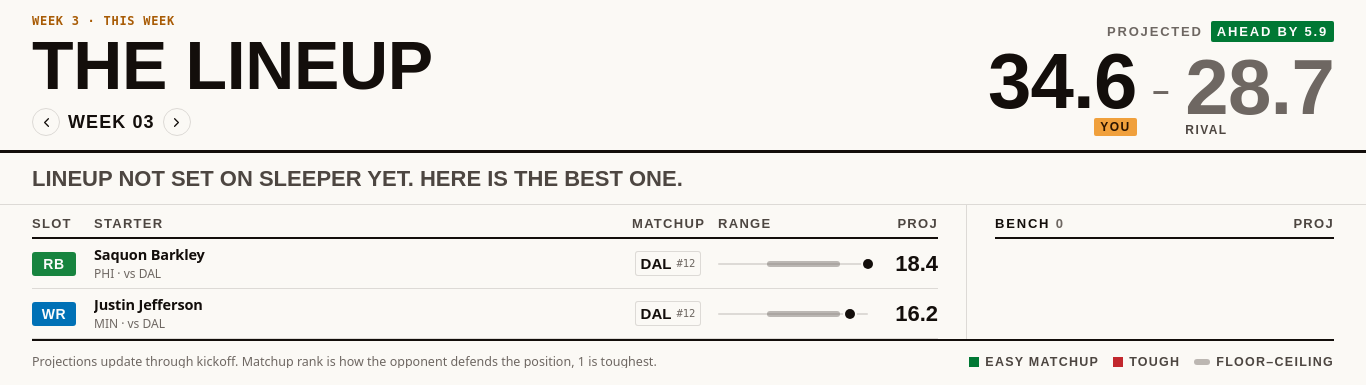
Test: LineupScreen › shows the not-set and no-team states, and refetches on a week step
Expected: the text "Lineup not set on Sleeper yet. Here is the best one." is shown, left=32, top=168, right=683, bottom=190
Click the button named "Next week": (177, 122) left=163, top=108, right=191, bottom=136
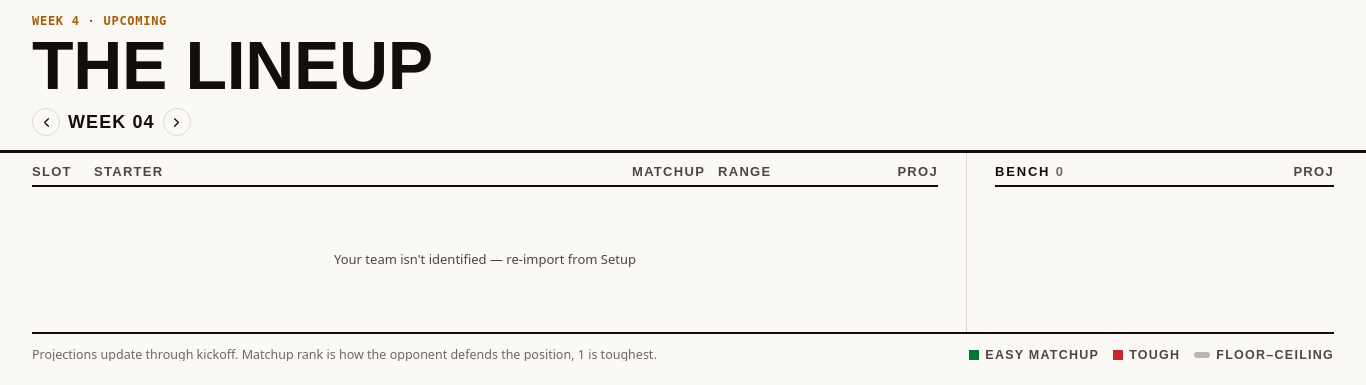
Now the text "Your team isn't identified — re-import from Setup" is shown, box left=334, top=250, right=636, bottom=268
